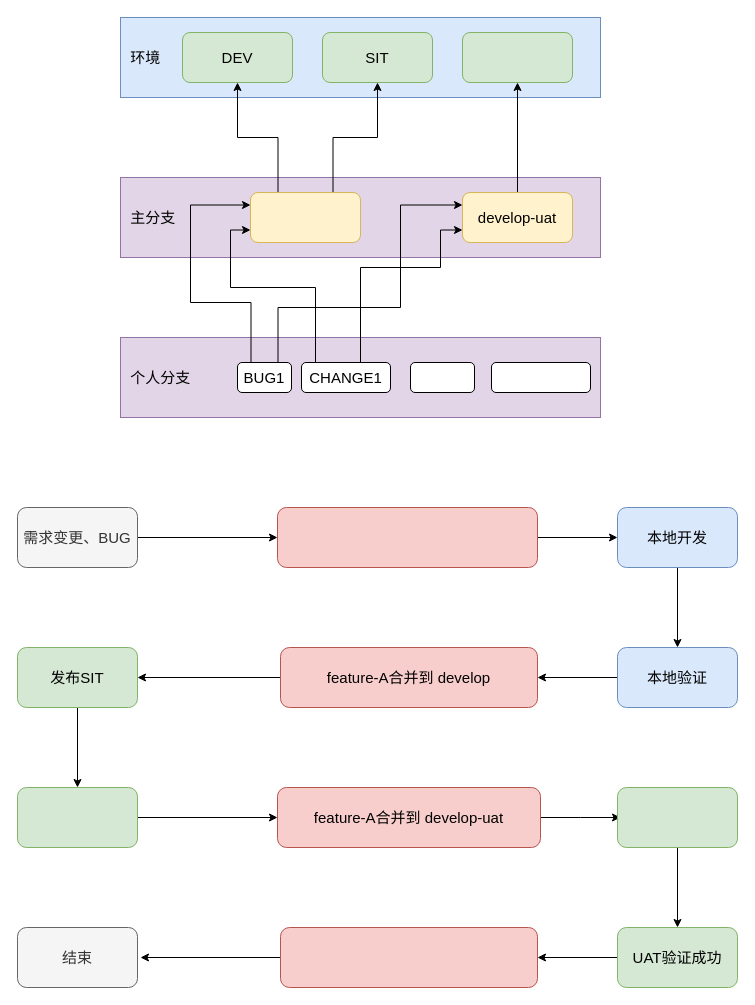
The diagram is 755 pixels wide and 1005 high, and some of its shapes have lost their labels. The centre of each missing label's shape, as x and y in pixels:
BUG-N: (442,377)
CHANGE-N: (540,377)
develop: (305,217)
SIT验证成功: (77,817)
UAT: (517,57)
删除feature-A分支: (409,957)
发布UAT: (677,817)
基于develop-uat拉取分支feature-A: (407,537)
